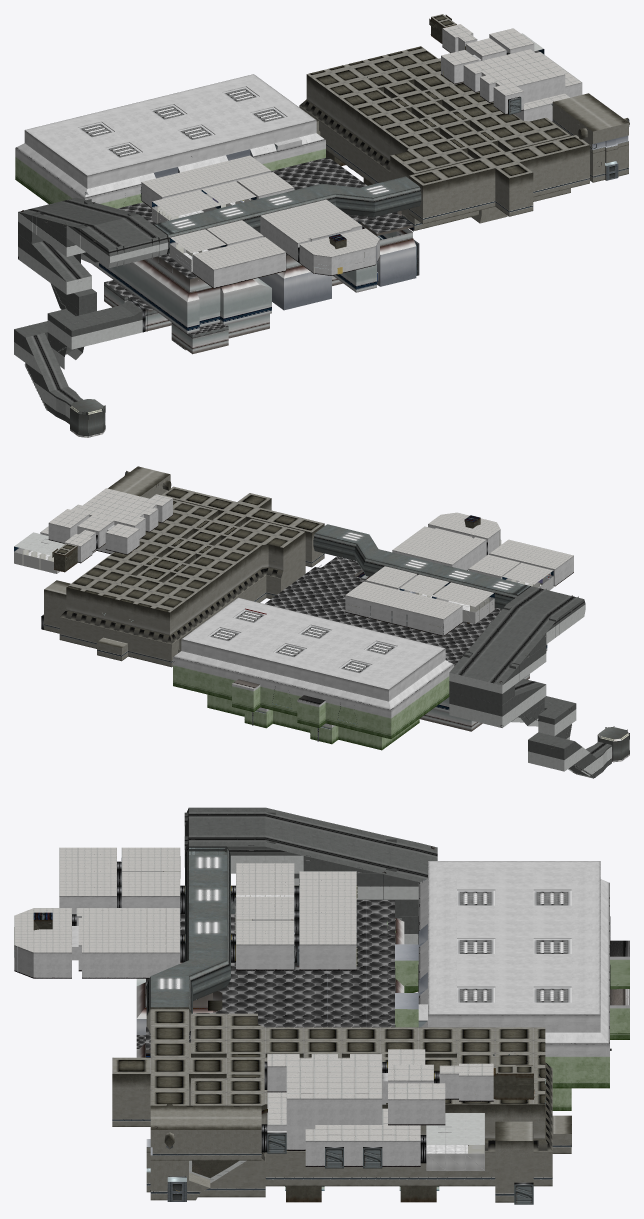
3 views of the same model, one above another, from view 1: azimuth 30°, elevation 25°; view 2: azimuth 150°, elevation 25°; view 3: azimuth 270°, elevation 25° (orthographic). The views are drawn at different scales.
Parts seen in each view (by area): view 1: Level5Niv1; view 2: Level5Niv1; view 3: Level5Niv1.
Boxes of the visible parts, x1,y1,x2,y2 form: Level5Niv1: (14, 14, 629, 437); Level5Niv1: (14, 466, 629, 778); Level5Niv1: (14, 807, 629, 1204).
Size of the model in its own units: 9335 by 3199 by 6437.
15 materials, 15 textured.
